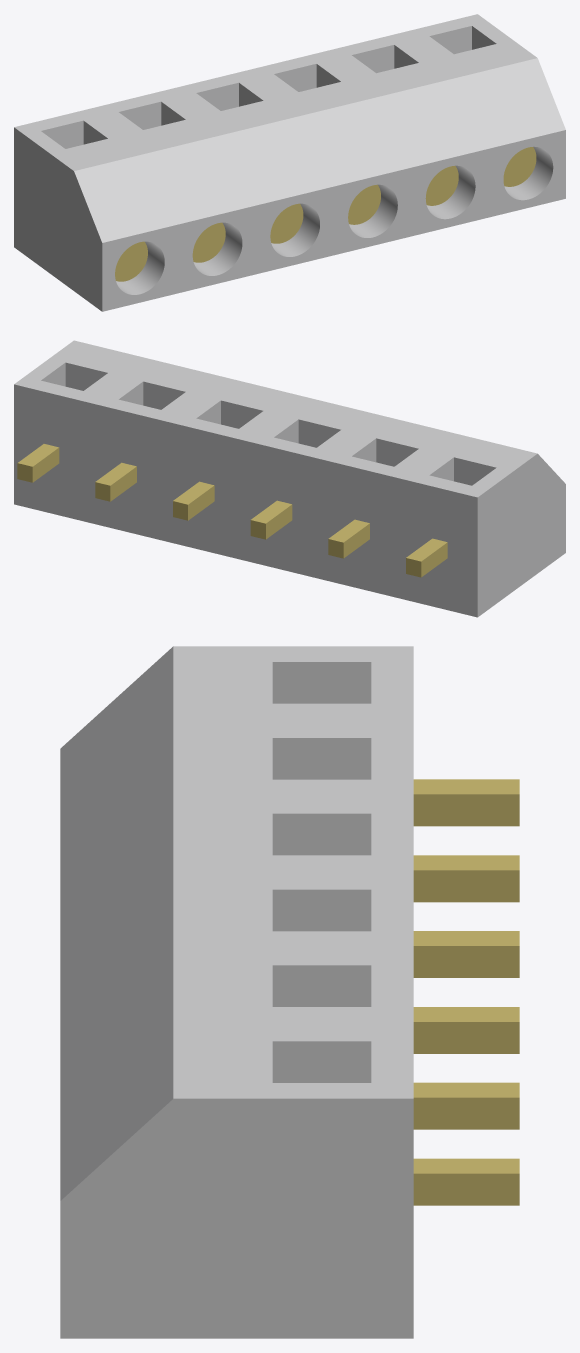
Rendered from screw_terminal_5_08_6pin.glb.
3 views of the same model, one above another, from view 1: azimuth 30°, elevation 25°; view 2: azimuth 150°, elevation 25°; view 3: azimuth 270°, elevation 25° (orthographic). The views are drawn at different scales.
Visible parts, largest first — view 1: world; view 2: world; view 3: world.
Boxes of the visible parts, bbox=[...] form: world: bbox=[14, 14, 565, 311]; world: bbox=[14, 340, 565, 617]; world: bbox=[60, 646, 519, 1338].
Size of the model in its own units: 30.32 by 7.5 by 13.
